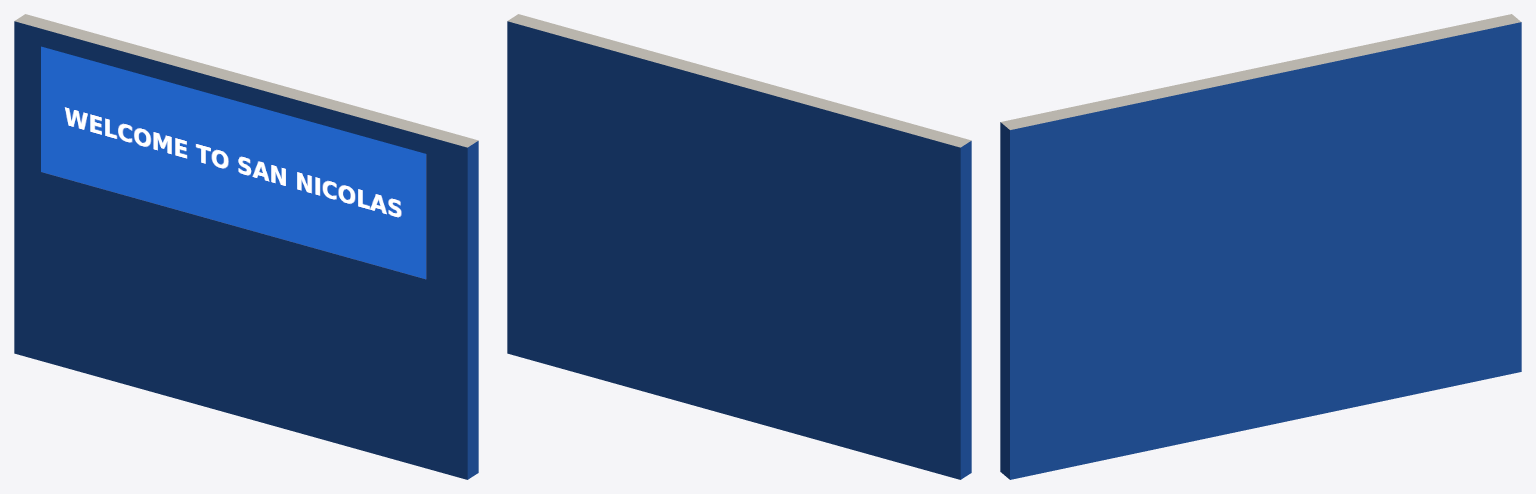
The model's file is sn_welcome.glb.
3 views of the same model, side by side, from view 1: azimuth 30°, elevation 25°; view 2: azimuth 210°, elevation 25°; view 3: azimuth 270°, elevation 25° (orthographic). The views are drawn at different scales.
Parts seen in each view (by area): view 1: sn_welcome_lod0; view 2: sn_welcome_lod0; view 3: sn_welcome_lod0.
Part boxes in pixels (<box>): sn_welcome_lod0: <box>14,14,478,479</box>; sn_welcome_lod0: <box>507,14,971,479</box>; sn_welcome_lod0: <box>1000,14,1521,479</box>.
Size of what is drawn, in the model's own units: 3.85 by 5.4 by 7.29.
3 materials, 1 textured.
